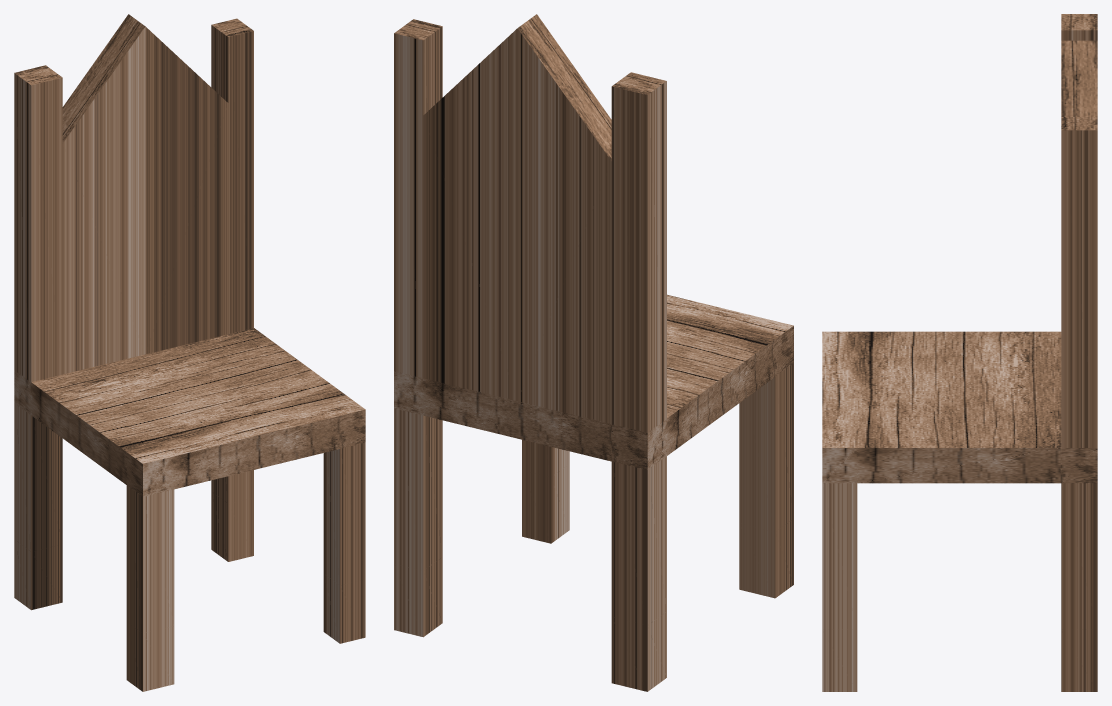
The model's file is silla.fbx.
3 views of the same model, side by side, from view 1: azimuth 30°, elevation 25°; view 2: azimuth 150°, elevation 25°; view 3: azimuth 270°, elevation 25° (orthographic). The views are drawn at different scales.
Visible parts, largest first — view 1: Cubo; view 2: Cubo; view 3: Cubo.
Boxes of the visible parts, <box> form: Cubo: <box>14,14,365,691</box>; Cubo: <box>394,14,793,691</box>; Cubo: <box>822,14,1097,691</box>.
Bounding box in the file's own units: 200 × 477 × 200.
1 material, 1 textured.
